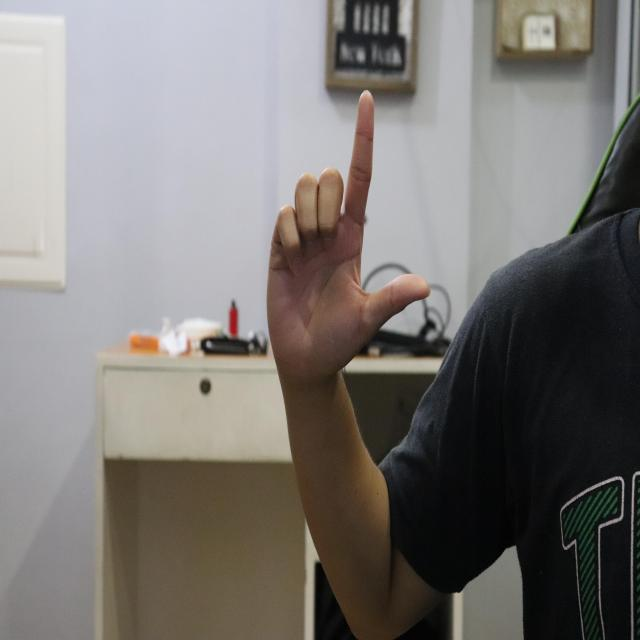L: (266, 89, 431, 385)
